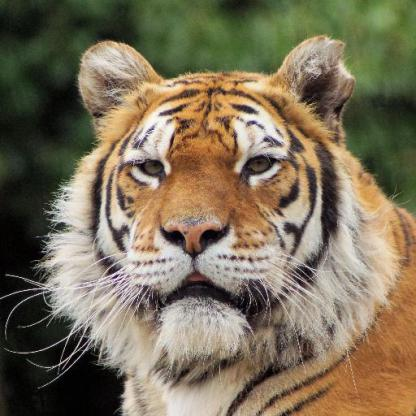tiger: (46, 56, 383, 349)
